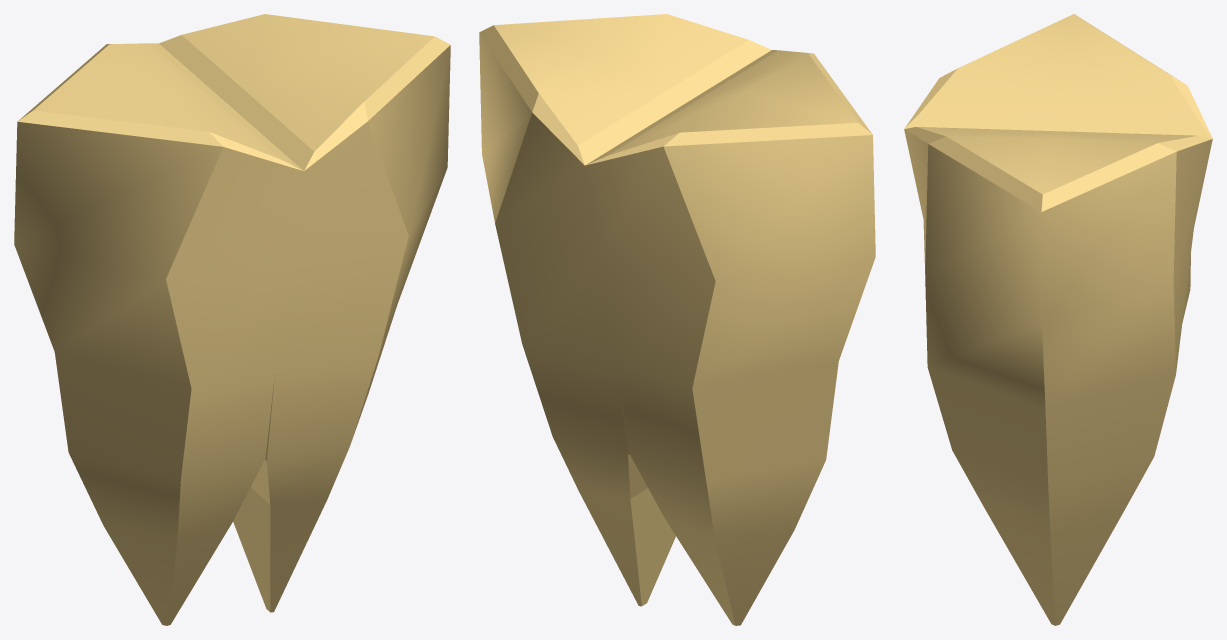
Rendered from teeth.fbx.
3 renders of one model, left to right at view 1: azimuth 30°, elevation 25°; view 2: azimuth 150°, elevation 25°; view 3: azimuth 270°, elevation 25°, orthographic. The views are drawn at different scales.
Visible parts, largest first — view 1: Object005; view 2: Object005; view 3: Object005.
Part boxes in pixels (left/top/right/bottom): Object005: left=14, top=14, right=450, bottom=625; Object005: left=479, top=14, right=875, bottom=625; Object005: left=904, top=14, right=1212, bottom=625.
Bounding box in the file's own units: 79.74 × 100 × 55.13.
